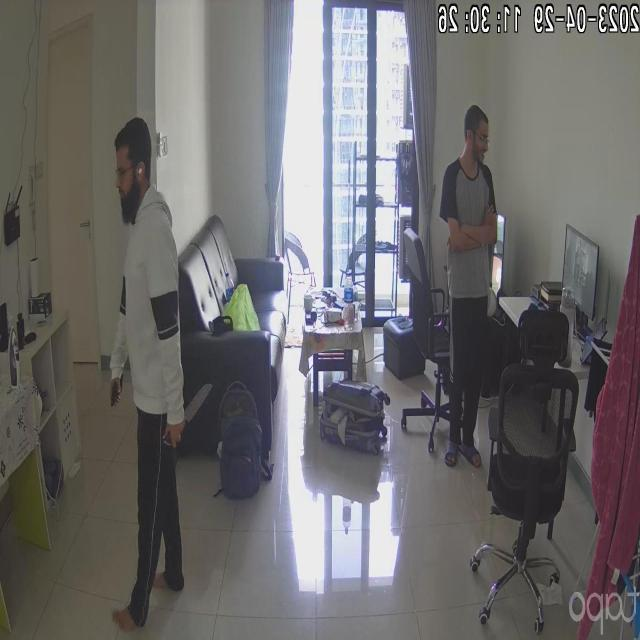Knife: (176, 381, 221, 440)
